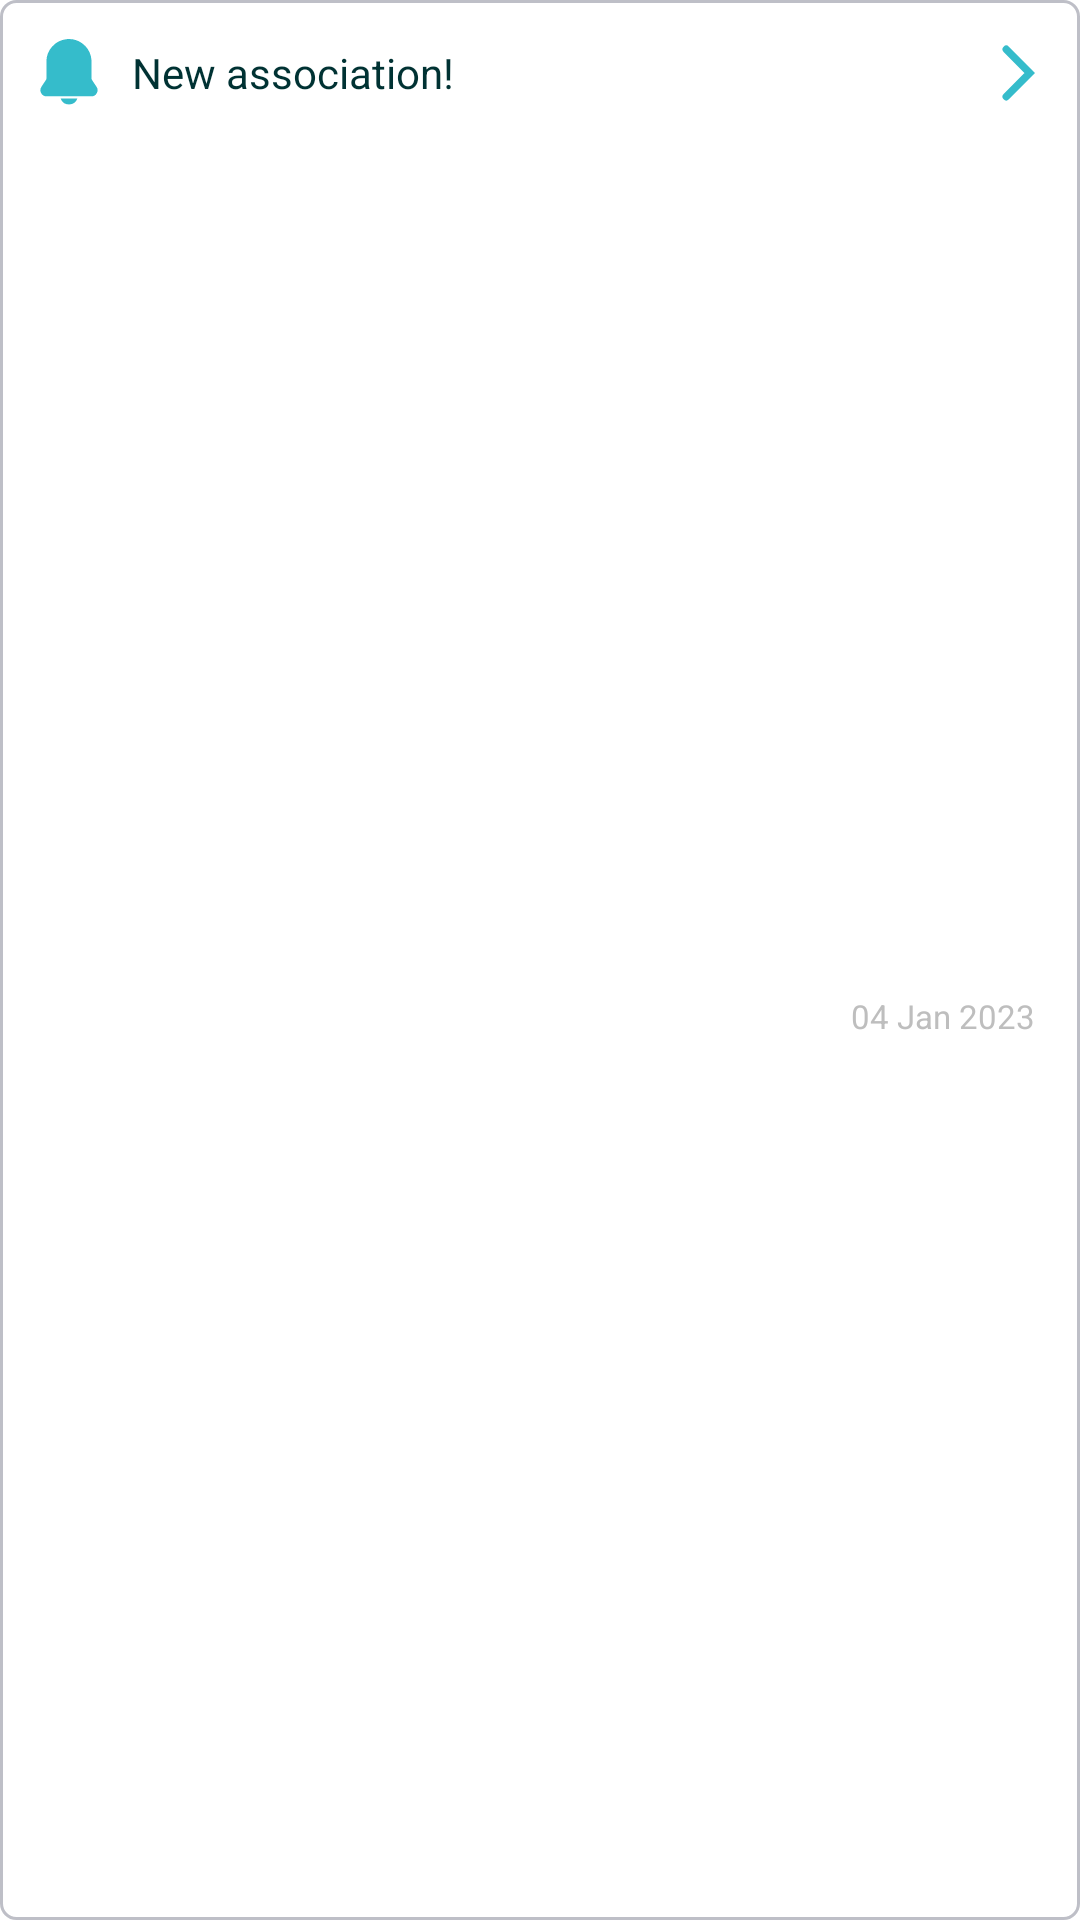

Screen size 1080px x 1920px. Icon name, then its box in pixels as (x1, y1, x2, y2):
arrow username item: (1002, 45, 1035, 101)
notification: (40, 39, 98, 105)
